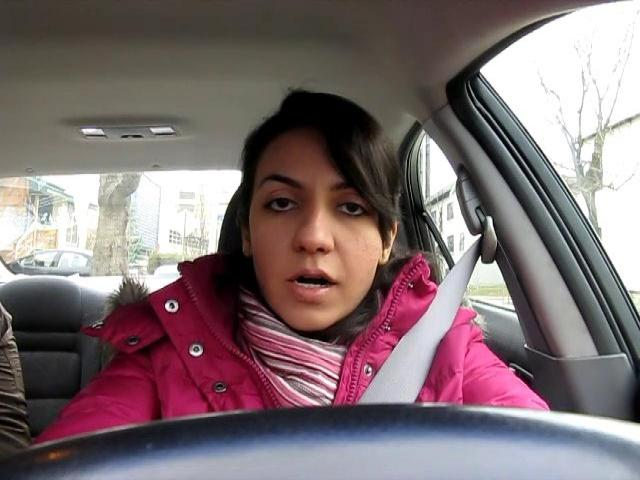eye_open: (262, 191, 300, 221), (338, 195, 376, 224)
face: (253, 154, 383, 329)
